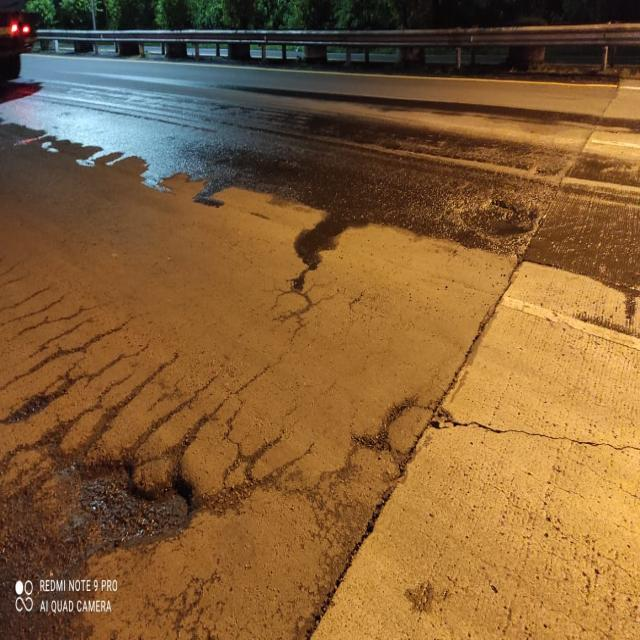Buraco: (36, 452, 203, 568), (432, 194, 553, 258)
